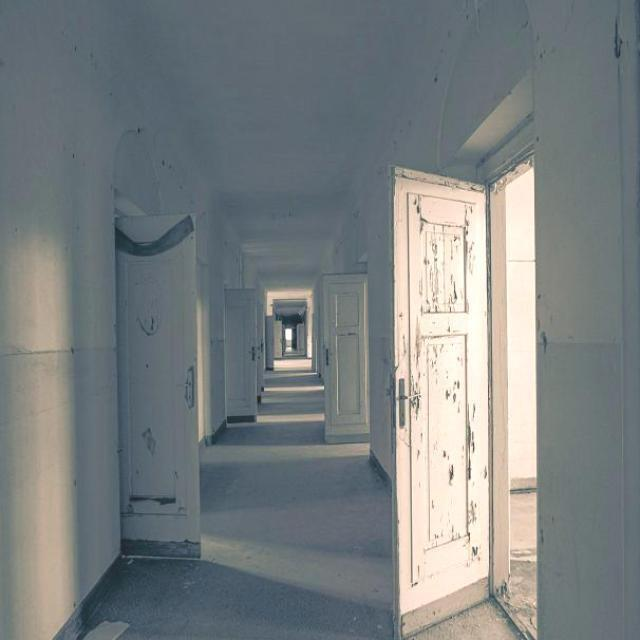door: (392, 165, 491, 635), (94, 213, 206, 565), (314, 253, 379, 454), (218, 274, 259, 428)
